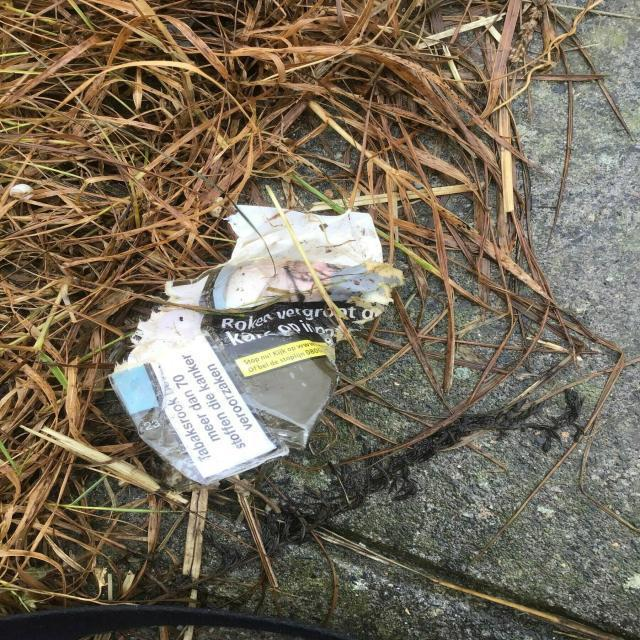Paper: (103, 203, 400, 491)
